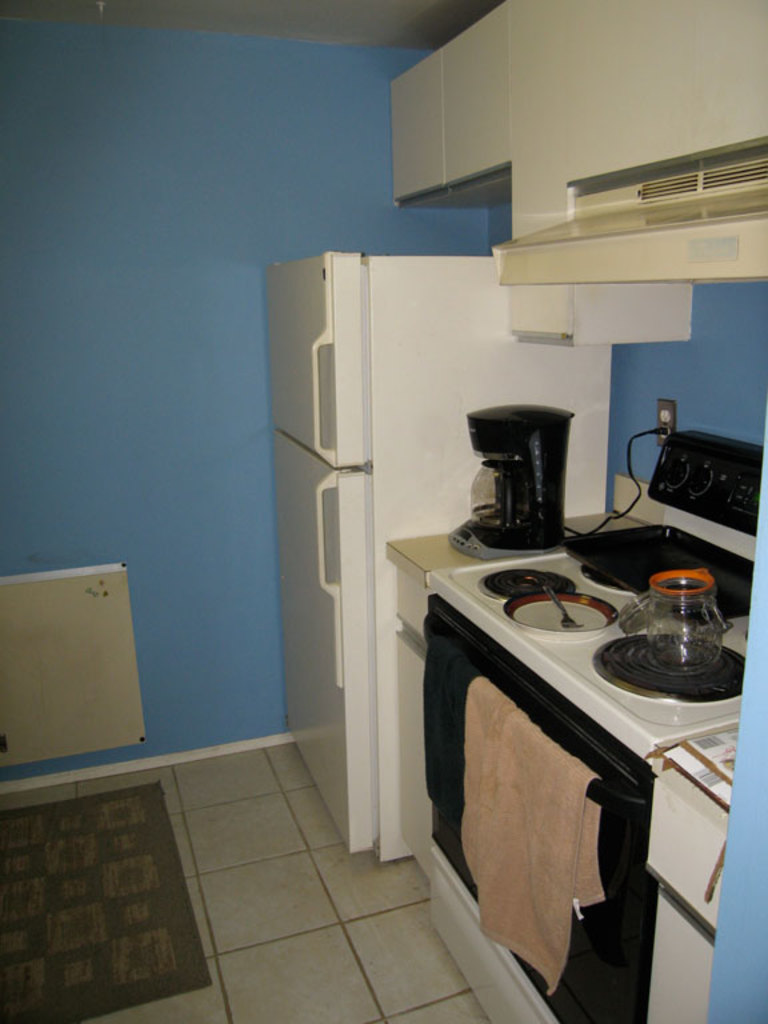cabinet door: (656, 905, 713, 1024), (398, 643, 428, 856), (658, 816, 725, 909), (394, 566, 425, 633)
handle: (650, 863, 715, 951), (305, 333, 339, 466), (314, 471, 343, 600), (395, 614, 425, 658)
refrigerator door: (278, 448, 353, 804), (277, 287, 349, 454)
